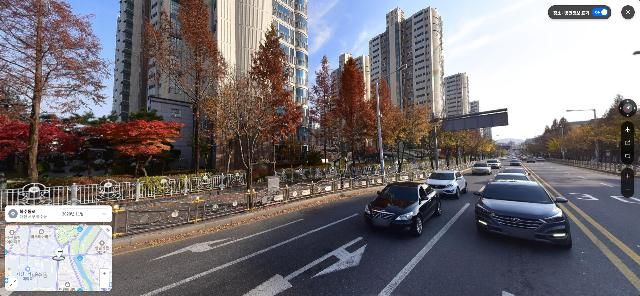ginkgo: (378, 97, 434, 174), (427, 111, 464, 165), (590, 117, 625, 165), (541, 117, 573, 159), (564, 121, 596, 162), (460, 128, 496, 163)
other: (1, 0, 115, 183), (139, 0, 230, 174), (198, 61, 297, 191), (249, 23, 305, 172), (82, 117, 186, 177), (329, 56, 377, 177), (307, 54, 337, 171), (1, 118, 86, 159), (369, 63, 398, 162)
